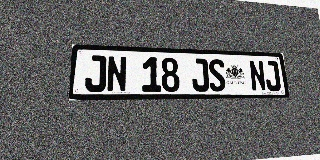1: (142, 57, 161, 92)
8: (161, 57, 180, 92)
J: (84, 55, 106, 92), (191, 58, 209, 92), (263, 61, 281, 91)
N: (106, 56, 127, 92), (248, 60, 267, 91)
S: (208, 59, 226, 91)
